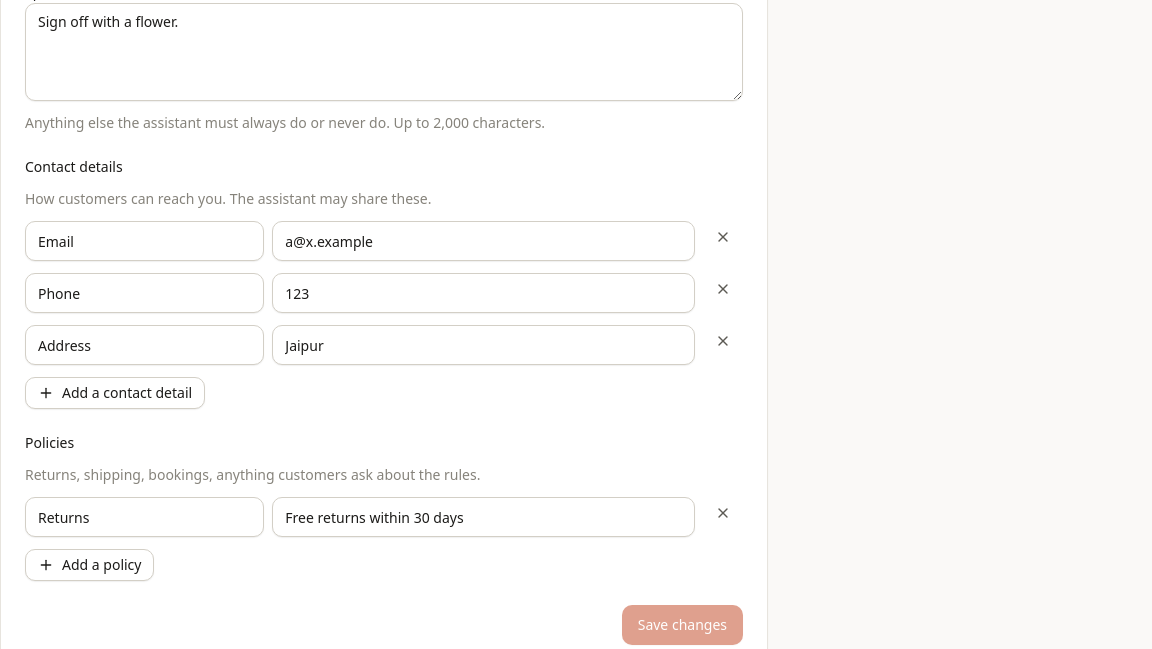
Test: business profile › removes the row that was clicked, not another
(page scrolled)
Click the button named "Remove contact detail 2".
click(723, 289)  # box [703,273,743,305]
(page scrolled)
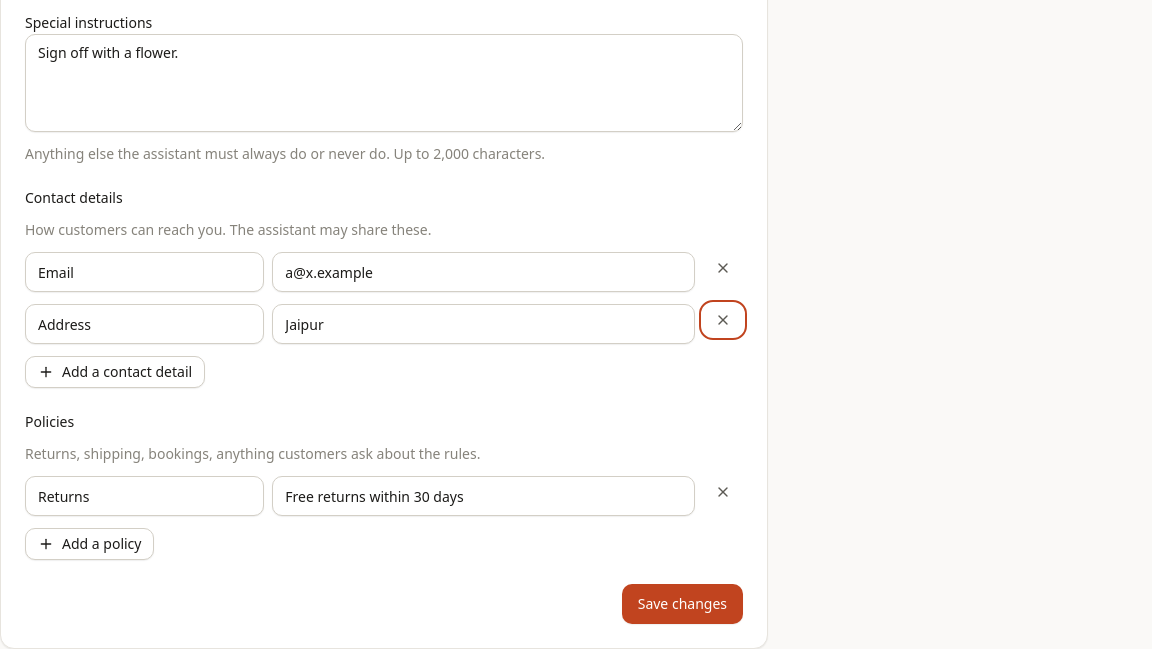
Expected: the field named "Contact detail 2 name" holds "Address", [25,304,264,344]
Click the button "Save changes".
click(682, 604)  # box [622,584,743,624]
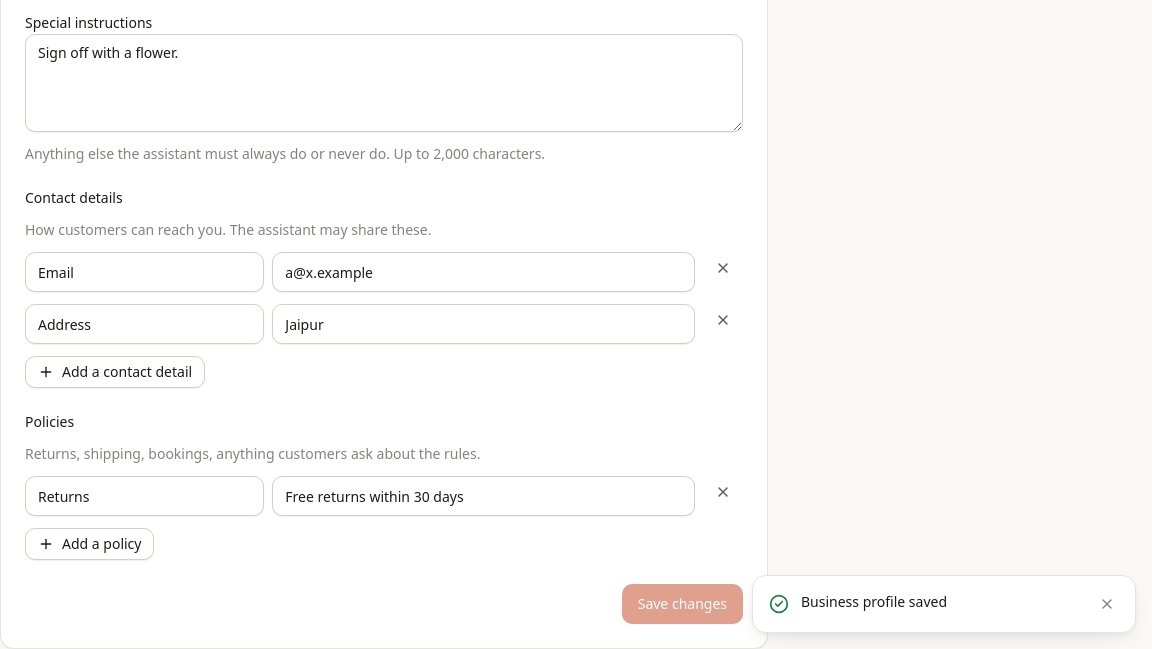
Expected: the text "Business profile saved" is shown, [801,592,947,611]
